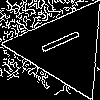I: (39, 23, 91, 56)
